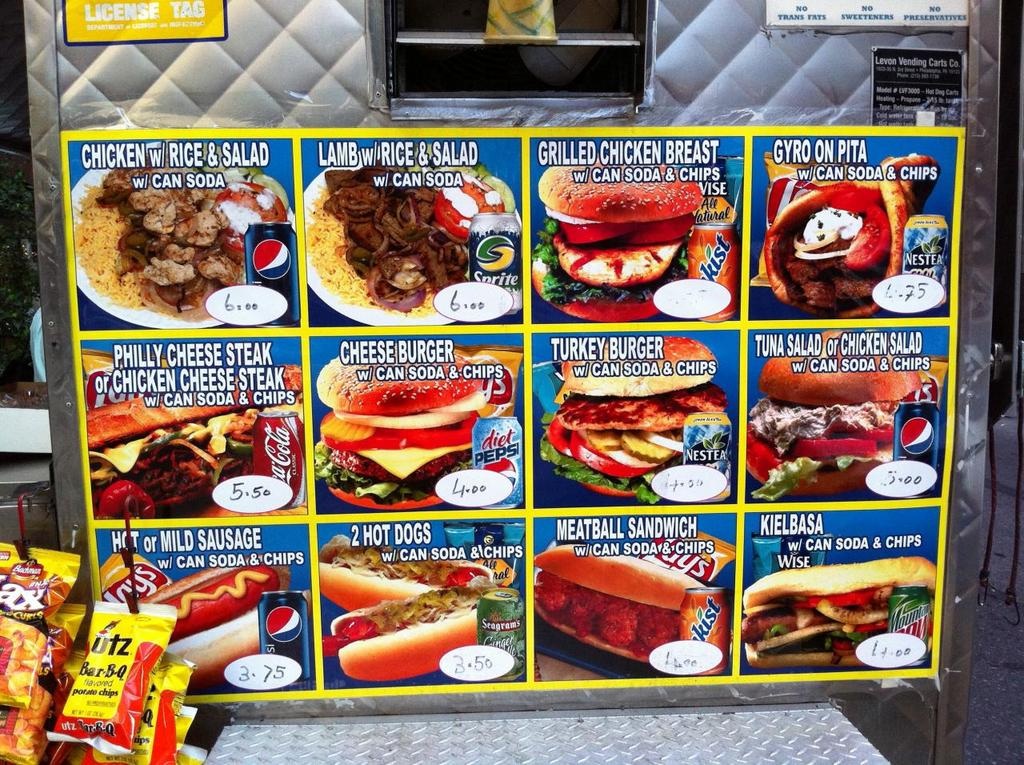hot_dog: (745, 560, 942, 671), (143, 553, 283, 683), (333, 592, 499, 691), (315, 534, 514, 611)
